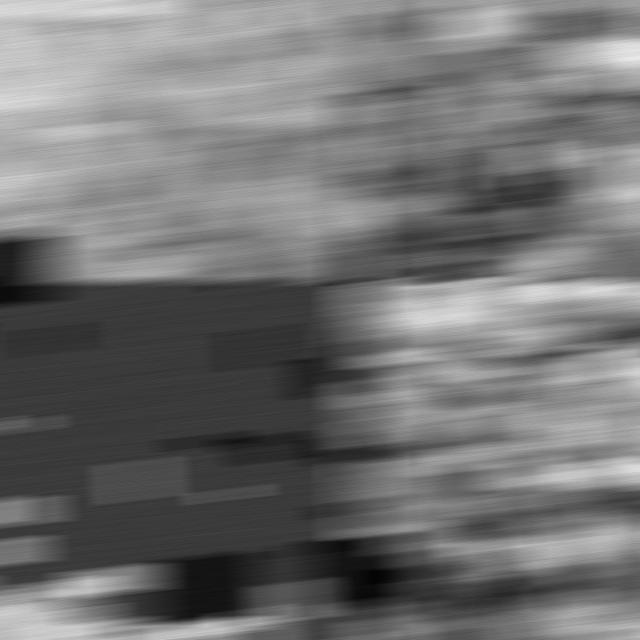Airbag: (0, 282, 370, 639), (346, 282, 640, 639), (0, 1, 370, 280), (346, 1, 640, 280)
